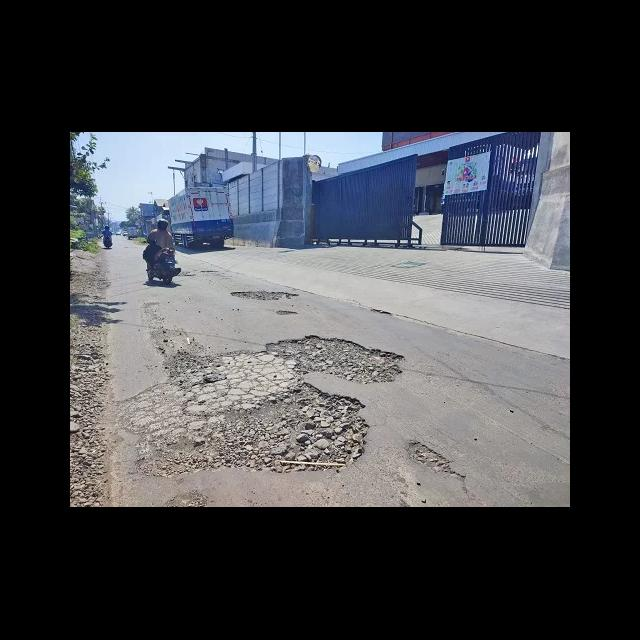lubang_kecil: (141, 386, 375, 487), (255, 328, 413, 399), (396, 424, 475, 491), (222, 281, 305, 306), (267, 308, 298, 319), (197, 267, 223, 276)
retak_kulit_buaya: (214, 351, 294, 398)
